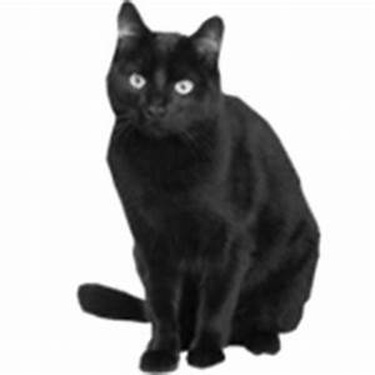cat: (75, 1, 322, 370)
